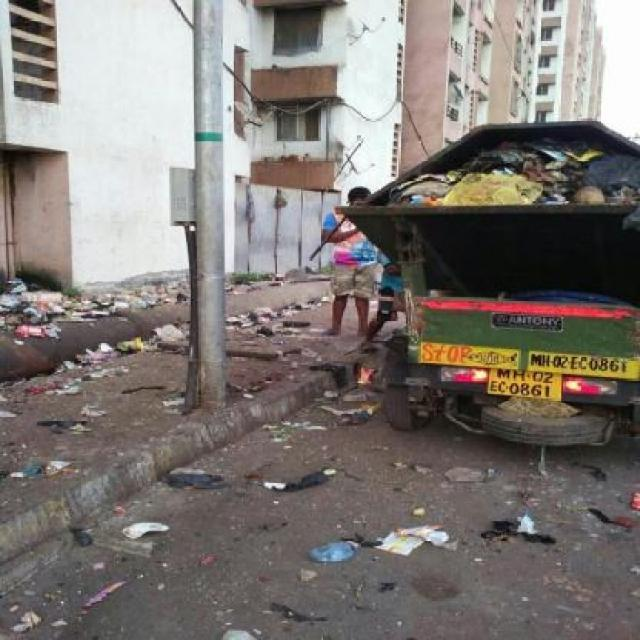garbage: (423, 146, 606, 200), (369, 514, 460, 564), (0, 280, 72, 337), (79, 285, 166, 306), (161, 466, 224, 494), (60, 345, 143, 366), (221, 300, 284, 323)
